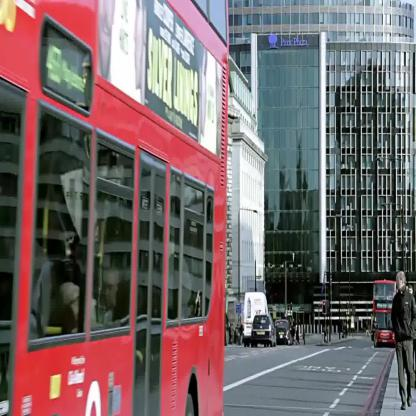bus: (373, 281, 396, 347)
car: (252, 314, 273, 346), (275, 319, 291, 344)
truck: (243, 290, 269, 346)
